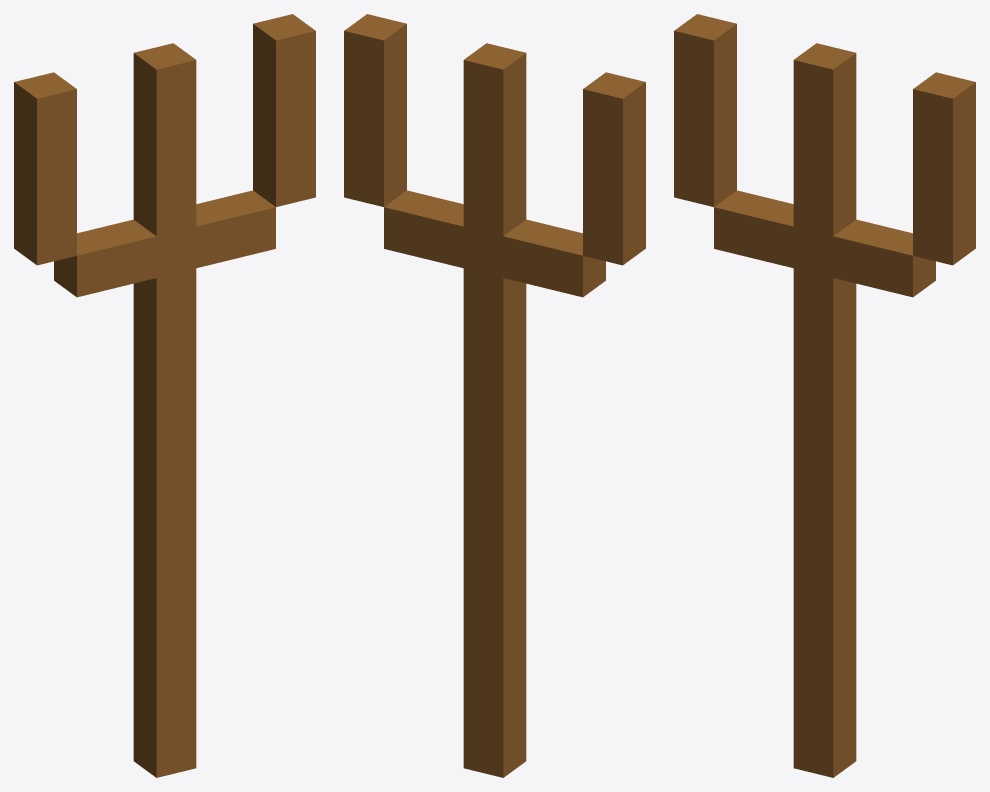
The picture shows the model from 3 angles, left to right: view 1: azimuth 30°, elevation 25°; view 2: azimuth 150°, elevation 25°; view 3: azimuth 330°, elevation 25°; orthographic projection.
Visible parts, largest first — view 1: 69; view 2: 69; view 3: 69.
Part boxes in pixels (<box>): 69: <box>14,14,315,777</box>; 69: <box>344,14,645,777</box>; 69: <box>674,14,975,777</box>.
Bounding box in the file's own units: 0.7 × 1.7 × 0.1.
Materials: 1 (1 with a texture image).
